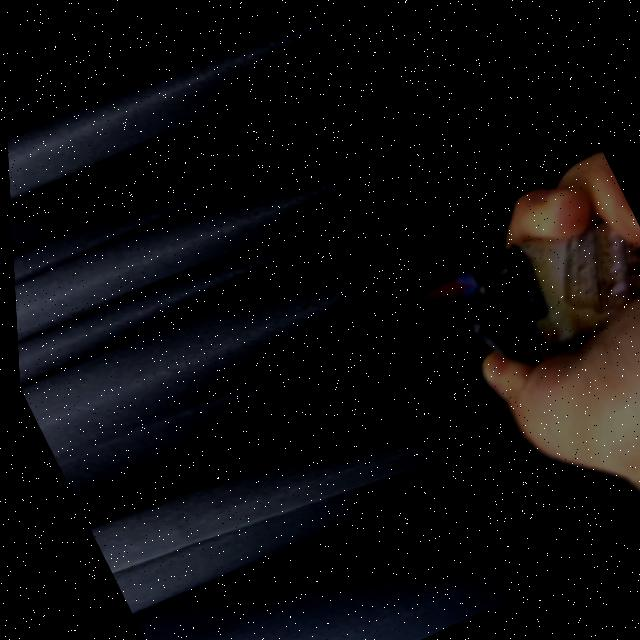Fire: (391, 262, 482, 326)
